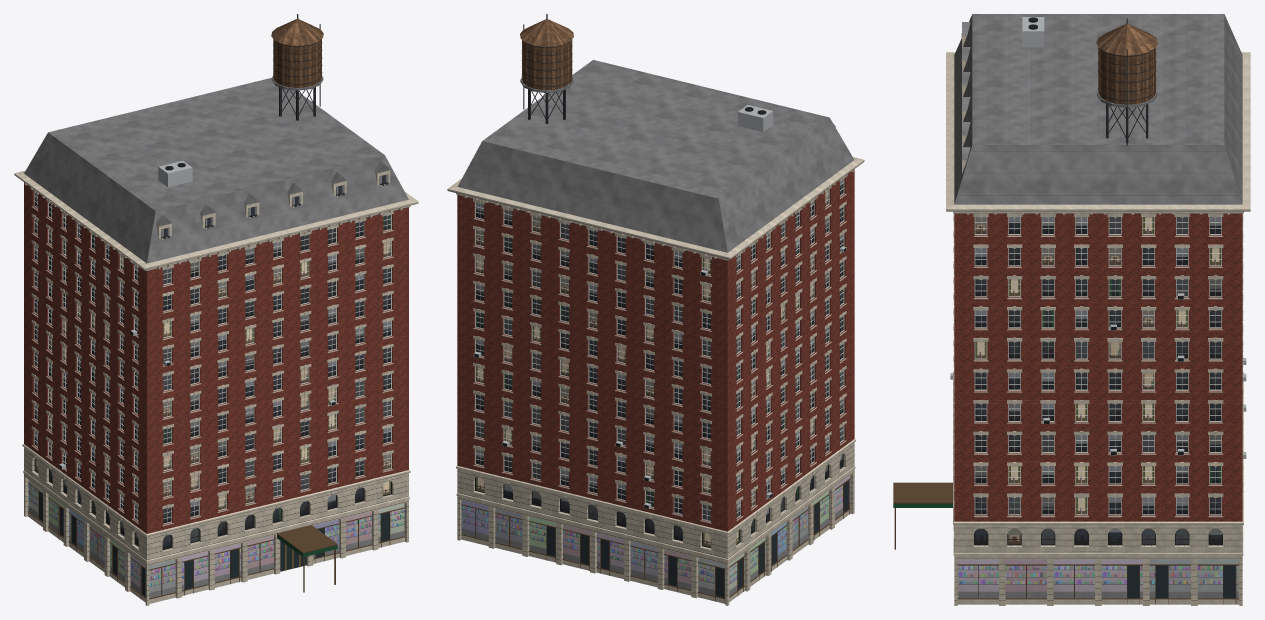
The model's file is hd12_neo_georgian_apartments.gltf.
The picture shows the model from 3 angles, left to right: view 1: azimuth 30°, elevation 25°; view 2: azimuth 150°, elevation 25°; view 3: azimuth 270°, elevation 25°; orthographic projection. The views are drawn at different scales.
Parts seen in each view (by area): view 1: hd12_neo_georgian_apartments_LOD0; view 2: hd12_neo_georgian_apartments_LOD0; view 3: hd12_neo_georgian_apartments_LOD0.
Boxes of the visible parts, x1,y1,x2,y2 form: hd12_neo_georgian_apartments_LOD0: (14, 14, 418, 605); hd12_neo_georgian_apartments_LOD0: (447, 14, 864, 605); hd12_neo_georgian_apartments_LOD0: (893, 14, 1250, 605).
Size of what is drawn, in the model's own units: 33.5 by 56.35 by 32.27.
Materials: 17 (7 with a texture image).
